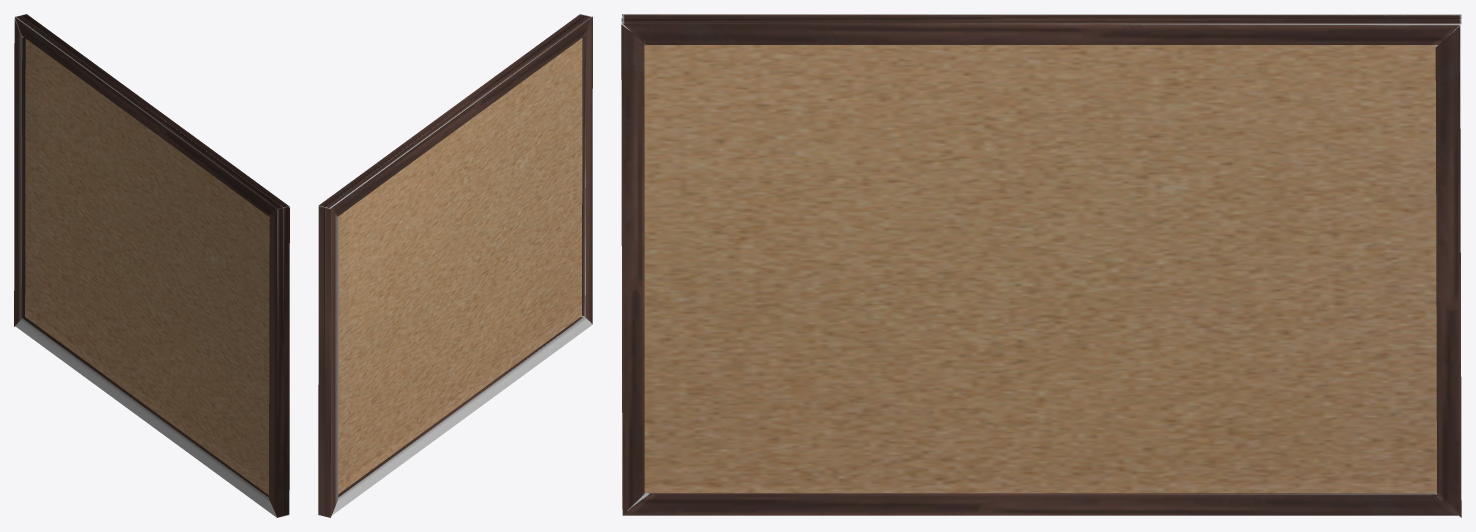
The model's file is cork_board_base.glb.
The picture shows the model from 3 angles, left to right: view 1: azimuth 30°, elevation 25°; view 2: azimuth 150°, elevation 25°; view 3: azimuth 270°, elevation 25°; orthographic projection. The views are drawn at different scales.
Parts seen in each view (by area): view 1: Object_2, Object_3; view 2: Object_2, Object_3; view 3: Object_2, Object_3.
Boxes of the visible parts, bbox=[...] form: Object_2: bbox=[25, 39, 270, 494]; Object_3: bbox=[14, 14, 289, 517]; Object_2: bbox=[338, 38, 582, 493]; Object_3: bbox=[318, 14, 592, 517]; Object_2: bbox=[644, 44, 1436, 493]; Object_3: bbox=[621, 14, 1461, 517].
Bounding box in the file's own units: 0.1254 × 2.85 × 4.38.
Materials: 2 (2 with a texture image).
